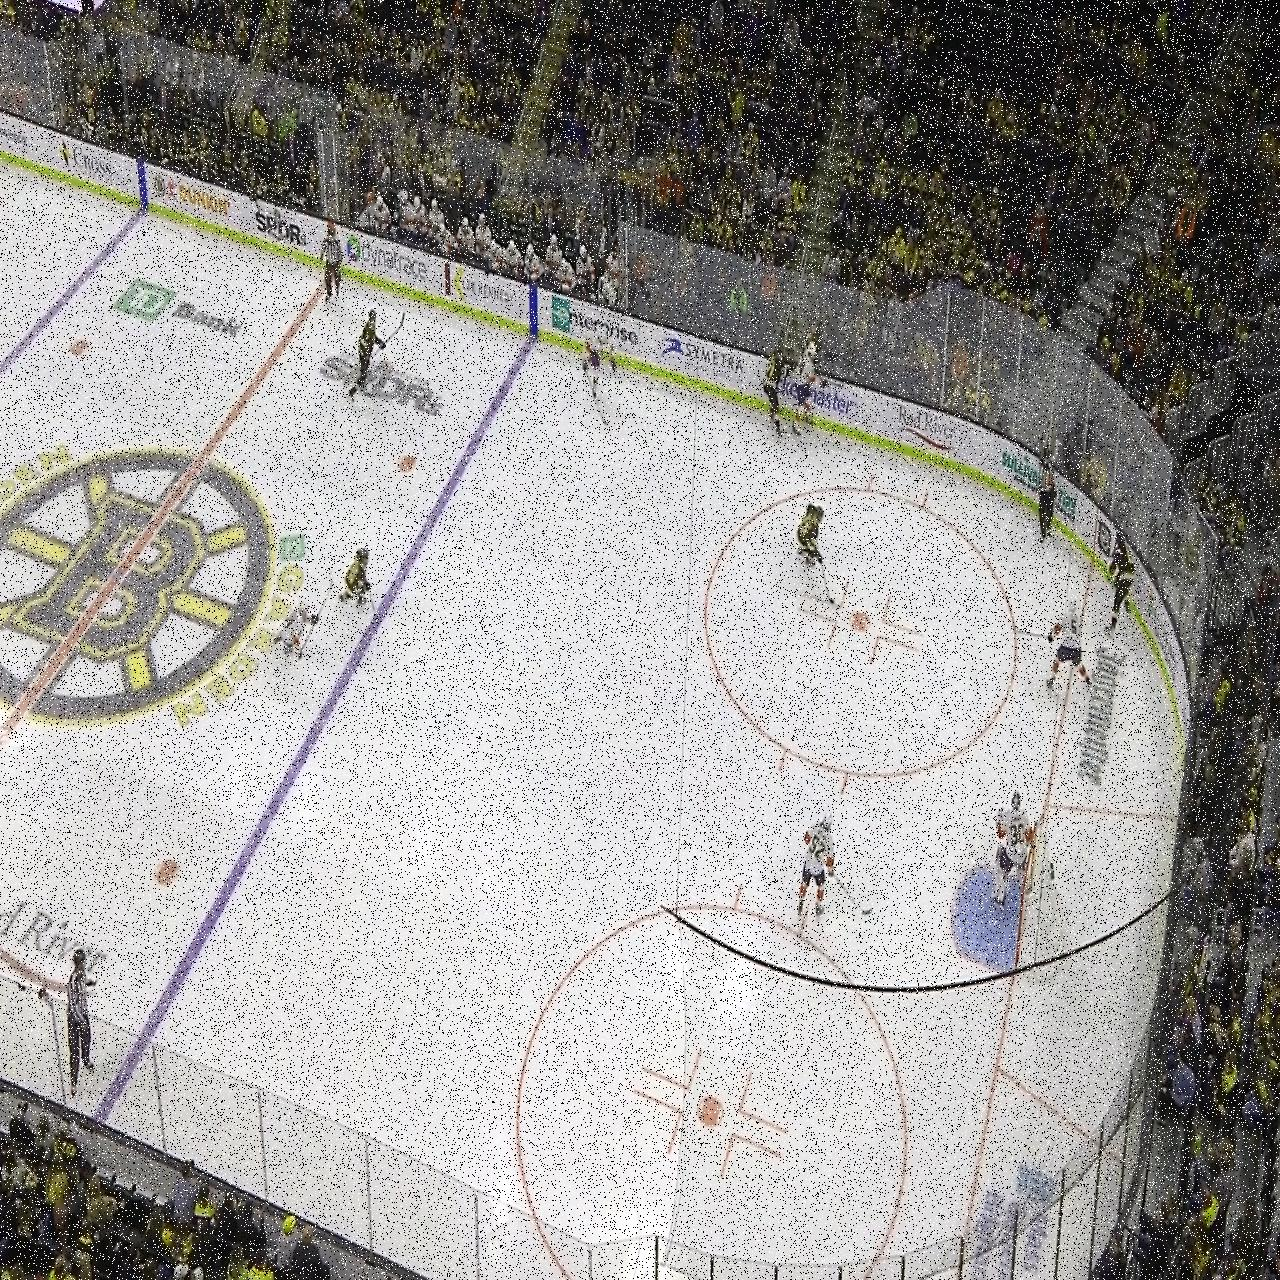Ad: (0, 869, 113, 1027), (324, 329, 442, 434), (968, 1149, 1061, 1279), (121, 261, 245, 348), (1078, 633, 1124, 790), (1000, 445, 1076, 524), (662, 325, 744, 396), (551, 293, 640, 356), (348, 227, 429, 291), (440, 254, 516, 321), (775, 367, 860, 424), (166, 171, 232, 225), (56, 130, 113, 191), (899, 402, 958, 458), (1148, 580, 1179, 681), (251, 200, 308, 253)
